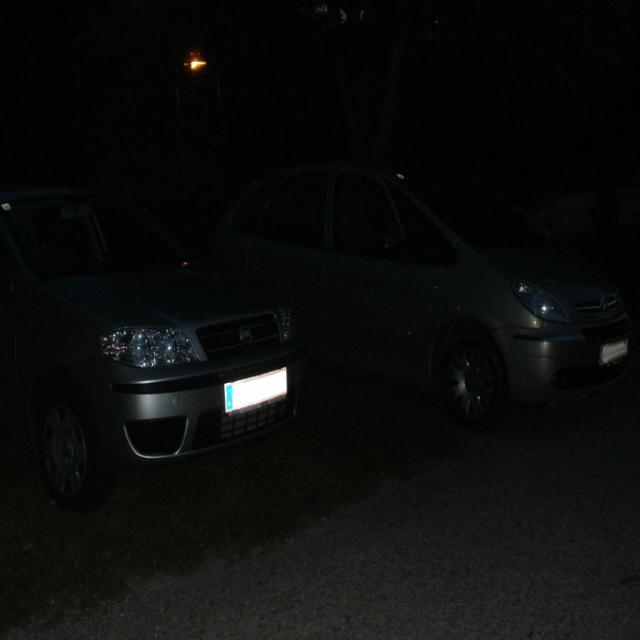Car: (215, 157, 640, 433), (0, 186, 309, 513)
